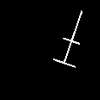double_crochet: (53, 11, 81, 66)
